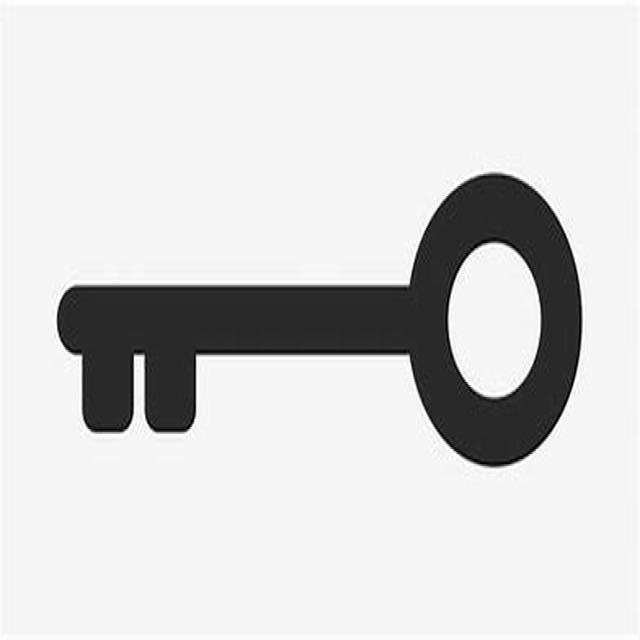key: (39, 180, 610, 512)
